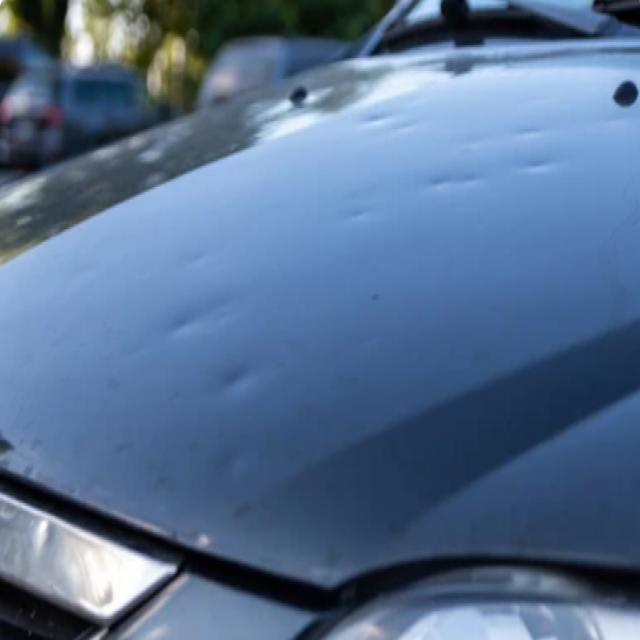dents: (159, 307, 226, 352), (213, 356, 270, 402), (513, 153, 562, 188), (464, 154, 492, 208), (346, 196, 380, 240), (363, 100, 394, 142), (428, 162, 452, 214), (224, 445, 251, 478), (513, 118, 538, 148), (234, 503, 258, 530), (404, 116, 416, 148)
